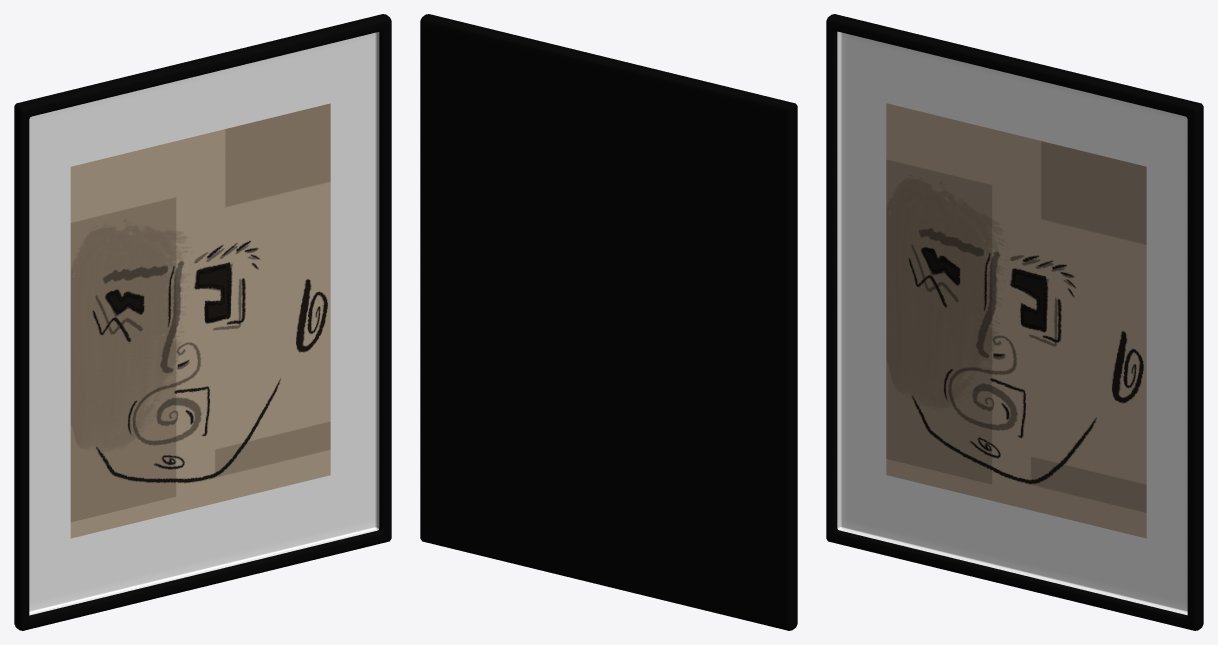
Rendered from abstract_Fever.fbx.
The picture shows the model from 3 angles, left to right: view 1: azimuth 30°, elevation 25°; view 2: azimuth 150°, elevation 25°; view 3: azimuth 330°, elevation 25°; orthographic projection.
Parts seen in each view (by area): view 1: abstract; view 2: abstract; view 3: abstract.
Boxes of the visible parts, x1,y1,x2,y2 form: abstract: (14,14,391,630); abstract: (420,14,797,630); abstract: (826,14,1203,630).
Bounding box in the file's own units: 5.23 × 7.05 × 0.1854.
